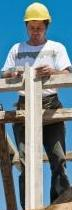hard-hat: (22, 1, 50, 23)
